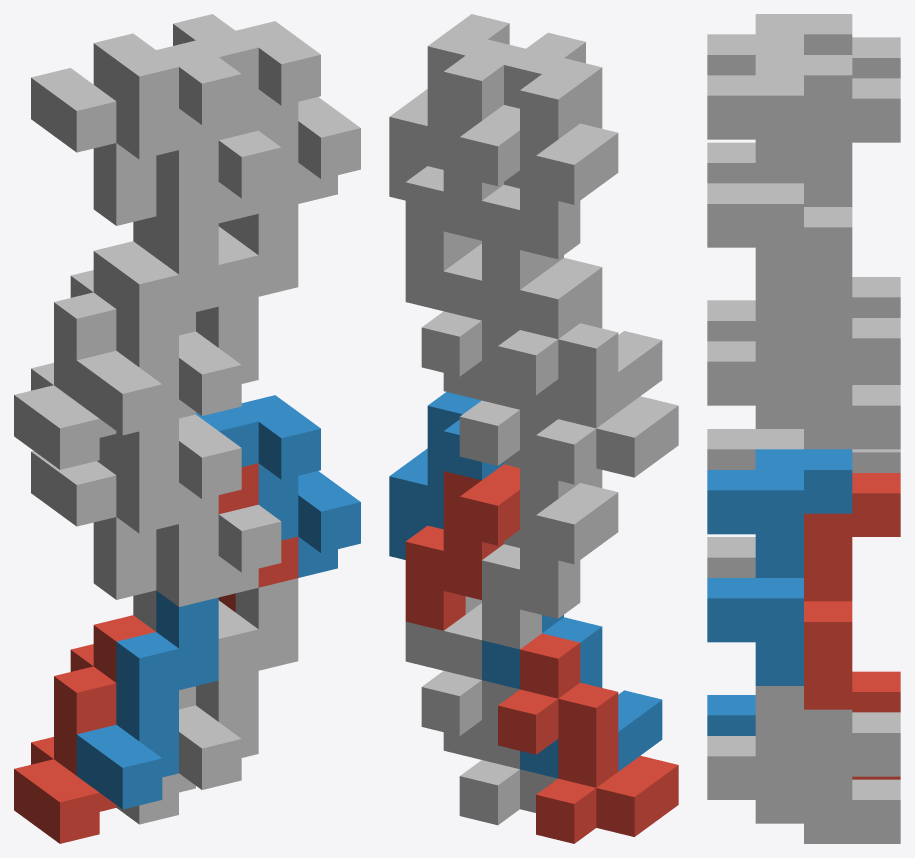
File: tiling.obj
3 views of the same model, side by side, from view 1: azimuth 30°, elevation 25°; view 2: azimuth 150°, elevation 25°; view 3: azimuth 270°, elevation 25° (orthographic). The views are drawn at different scales.
Parts seen in each view (by area): view 1: copy_2_domain_4, copy_1_domain_2, copy_1_domain_4, copy_2_domain_3, copy_2_domain_2, copy_2_domain_1, copy_2_domain_8, copy_1_domain_8, copy_1_domain_6, copy_2_domain_6, copy_1_domain_3, copy_1_domain_1 (+4 smaller); view 2: copy_1_domain_3, copy_1_domain_1, copy_2_domain_3, copy_2_domain_1, copy_2_domain_7, copy_2_domain_5, copy_1_domain_5, copy_1_domain_7, copy_2_domain_8, copy_2_domain_4, copy_1_domain_2, copy_1_domain_4 (+4 smaller); view 3: copy_2_domain_6, copy_2_domain_8, copy_1_domain_6, copy_1_domain_8, copy_2_domain_5, copy_2_domain_7, copy_1_domain_5, copy_1_domain_7, copy_2_domain_4, copy_2_domain_2, copy_1_domain_1, copy_1_domain_3 (+4 smaller).
Boxes of the visible parts, x1=… form: copy_2_domain_4: x1=93, y1=33, x2=281, y2=223; copy_1_domain_2: x1=76, y1=591, x2=218, y2=809; copy_1_domain_4: x1=76, y1=217, x2=218, y2=435; copy_2_domain_3: x1=31, y1=68, x2=218, y2=257; copy_2_domain_2: x1=97, y1=414, x2=281, y2=597; copy_2_domain_1: x1=31, y1=451, x2=218, y2=631; copy_2_domain_8: x1=173, y1=14, x2=360, y2=203; copy_1_domain_8: x1=179, y1=204, x2=298, y2=415; copy_1_domain_6: x1=179, y1=578, x2=298, y2=789; copy_2_domain_6: x1=196, y1=395, x2=360, y2=577; copy_1_domain_3: x1=14, y1=241, x2=155, y2=469; copy_1_domain_1: x1=14, y1=615, x2=155, y2=843; copy_1_domain_3: x1=498, y1=274, x2=678, y2=484; copy_1_domain_1: x1=498, y1=633, x2=678, y2=843; copy_2_domain_3: x1=482, y1=107, x2=618, y2=289; copy_2_domain_1: x1=482, y1=469, x2=618, y2=649; copy_2_domain_7: x1=405, y1=105, x2=519, y2=271; copy_2_domain_5: x1=405, y1=464, x2=519, y2=630; copy_1_domain_5: x1=421, y1=615, x2=557, y2=825; copy_1_domain_7: x1=421, y1=255, x2=557, y2=465; copy_2_domain_8: x1=389, y1=14, x2=525, y2=200; copy_2_domain_4: x1=504, y1=32, x2=602, y2=188; copy_1_domain_2: x1=482, y1=615, x2=662, y2=778; copy_1_domain_4: x1=482, y1=255, x2=662, y2=418; copy_2_domain_6: x1=707, y1=449, x2=852, y2=685; copy_2_domain_8: x1=707, y1=55, x2=852, y2=291; copy_1_domain_6: x1=707, y1=686, x2=852, y2=820; copy_1_domain_8: x1=707, y1=291, x2=852, y2=425; copy_2_domain_5: x1=804, y1=473, x2=900, y2=709; copy_2_domain_7: x1=804, y1=78, x2=900, y2=314; copy_1_domain_5: x1=755, y1=712, x2=900, y2=843; copy_1_domain_7: x1=755, y1=318, x2=900, y2=449; copy_2_domain_4: x1=707, y1=14, x2=852, y2=183; copy_2_domain_2: x1=707, y1=429, x2=803, y2=577; copy_1_domain_1: x1=852, y1=671, x2=900, y2=779; copy_1_domain_3: x1=852, y1=277, x2=900, y2=384.
Bounding box in the file's own units: 7 × 18 × 4.
